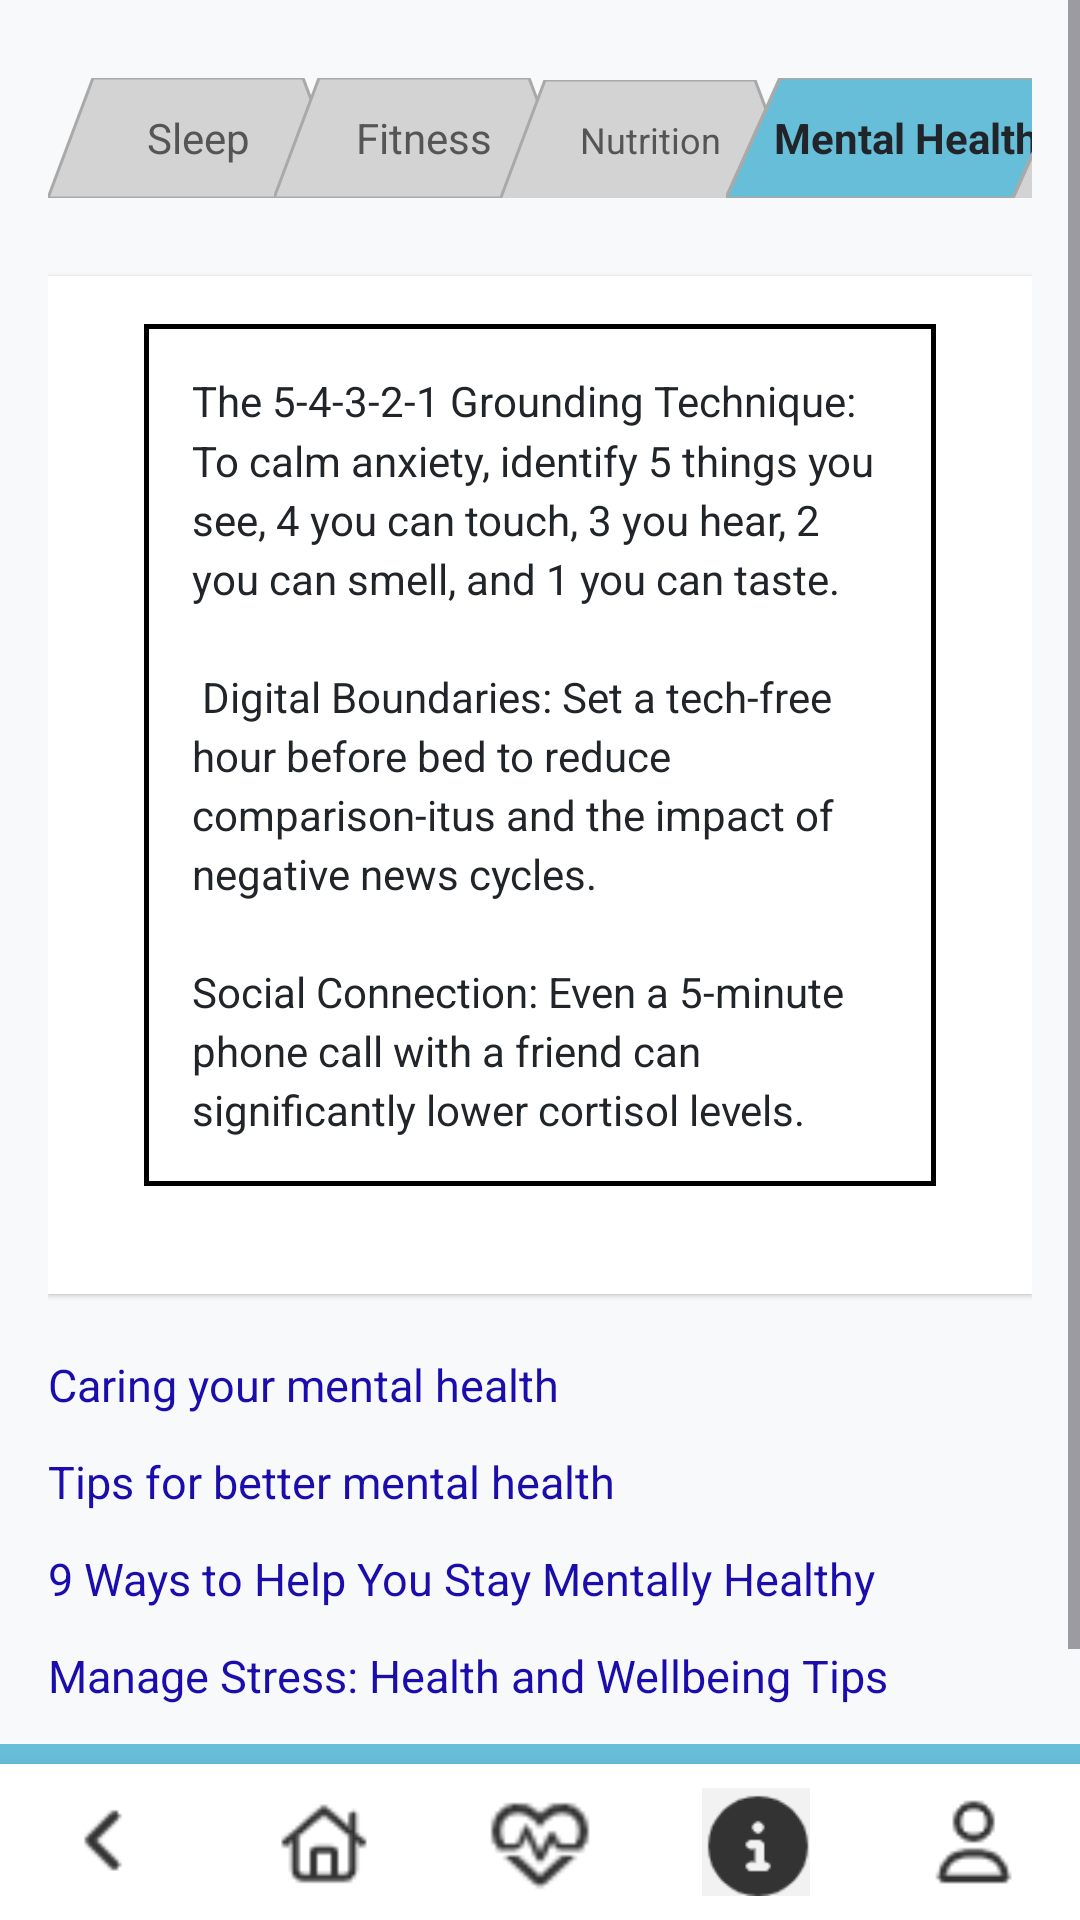

Icon bounding boxes for this 1080 × 1920 phone screenshot, format [x1,y1,x2,y2]:
Back: [84,1810,122,1871]
Home: [281,1804,367,1883]
Info: [707,1795,809,1896]
Profile: [936,1800,1012,1884]
